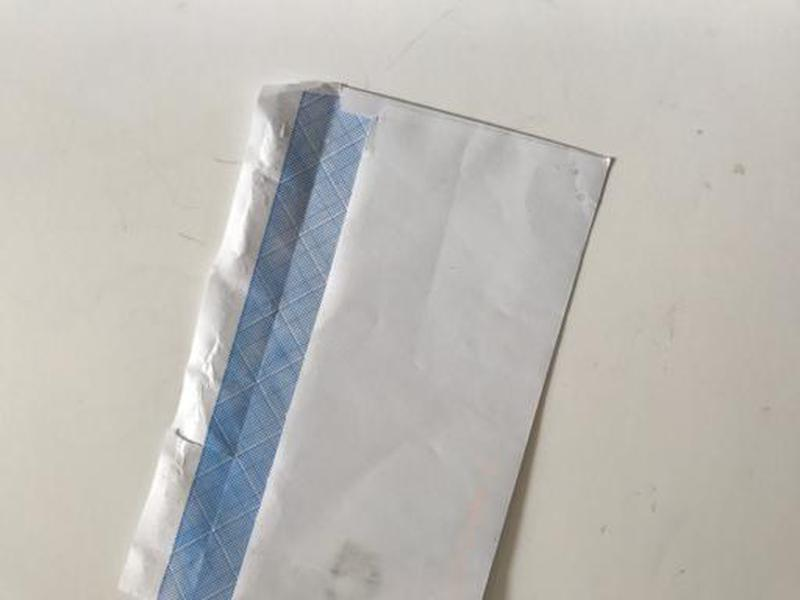paper: (114, 77, 618, 600)
